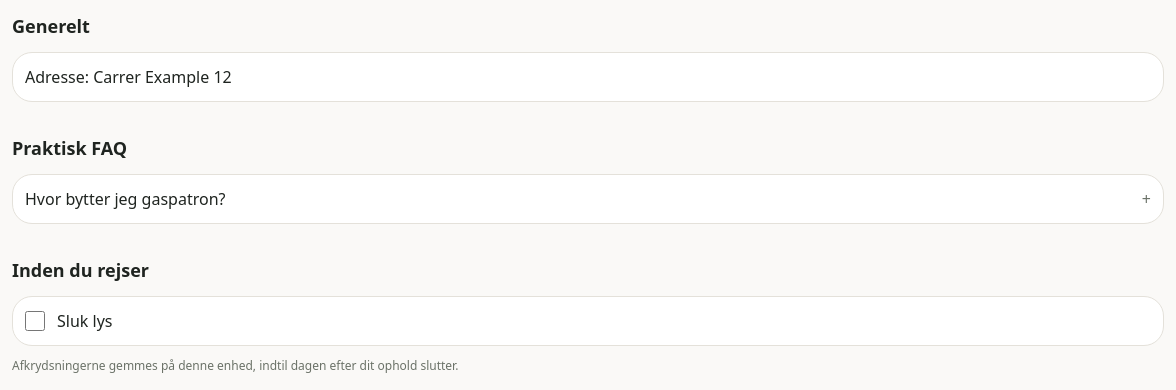
Scenario: InfoView › afkrydsning af tjekliste-punkt sender IKKE noget til serveren, men gemmes lokalt
The image size is (1176, 390).
Click the checkbox labelled "Sluk lys": (35, 321) [25,311,45,331]
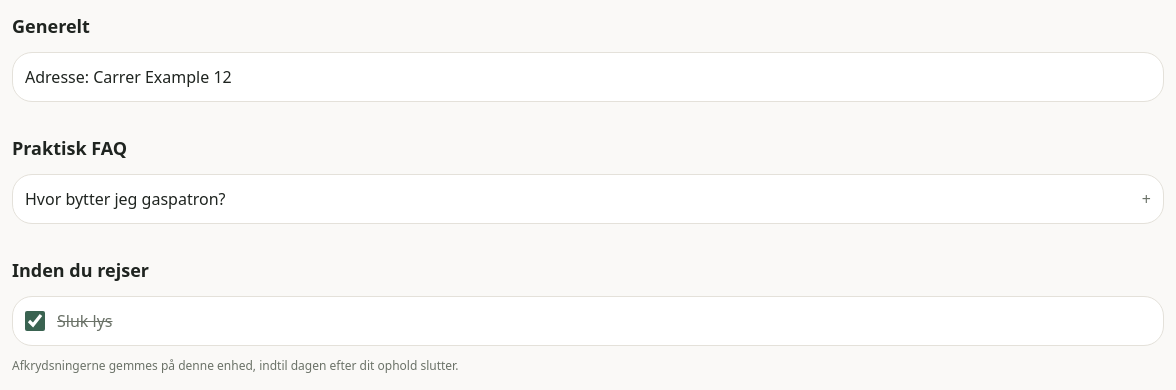
Expected: the checkbox labelled "Sluk lys" is checked, [25,311,45,331]
